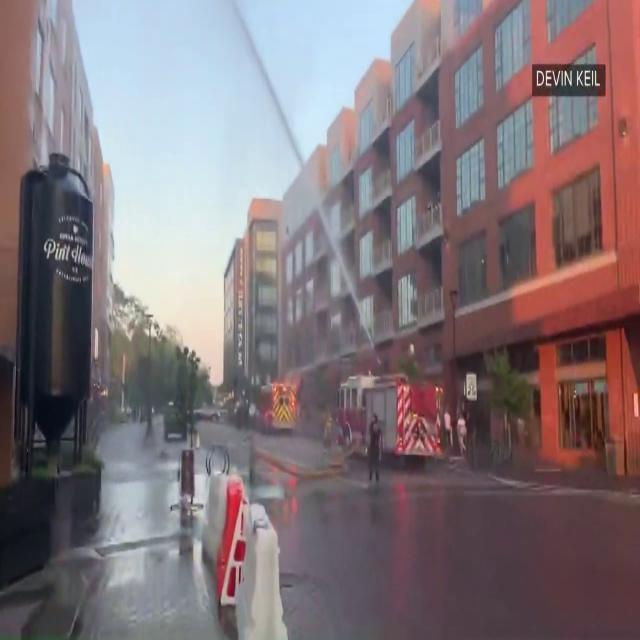Fire: (264, 366, 302, 431)
